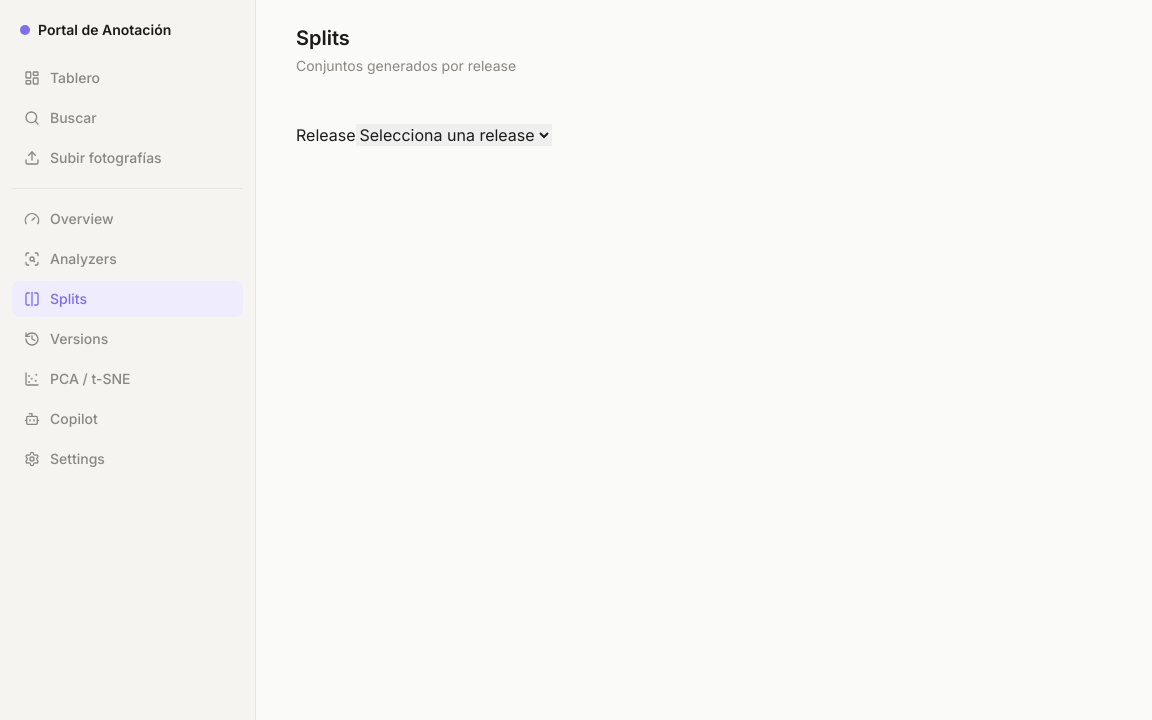
Test: selects a catalog release and loads its real split reference
The image size is (1152, 720).
Select "v0.1.0" in the dropdown labelled "Release" at (454, 135), box [356,124,552,146]
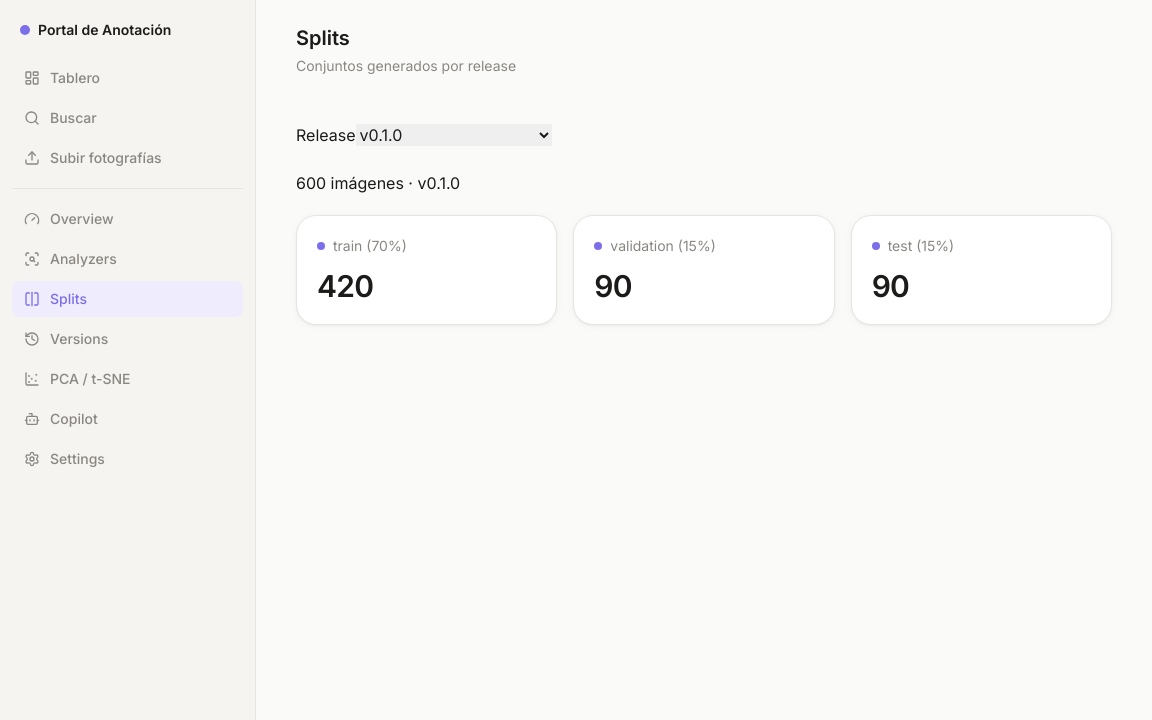
Check: the text "600 imágenes · v0.1.0" is shown, box [296,173,460,193]
Check: the text "420" is shown, box [317,268,373,304]
Check: the text "90" is shown 2 times, box [594,268,632,304]; [872,268,909,304]
